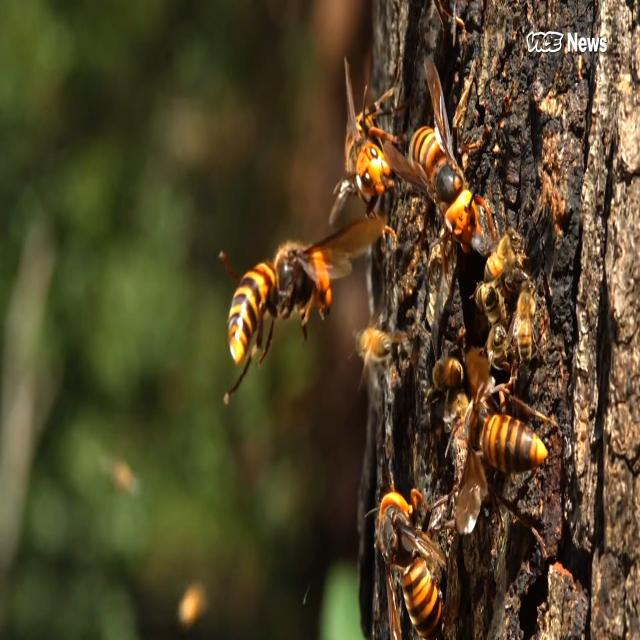Bees: (507, 280, 545, 372), (484, 208, 524, 286)
Hornets: (213, 215, 390, 408), (385, 54, 497, 261), (451, 353, 558, 567), (361, 446, 456, 640), (329, 56, 404, 226)
